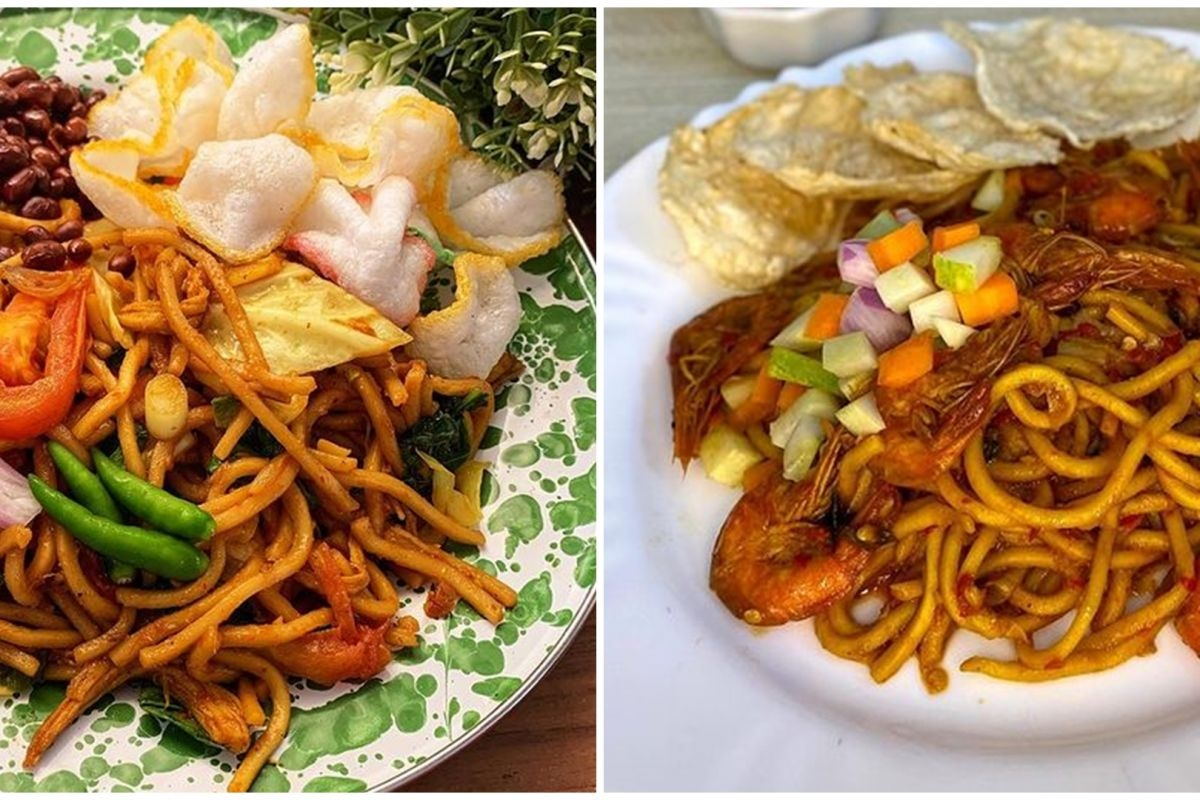mie_aceh: (665, 57, 1200, 695)
